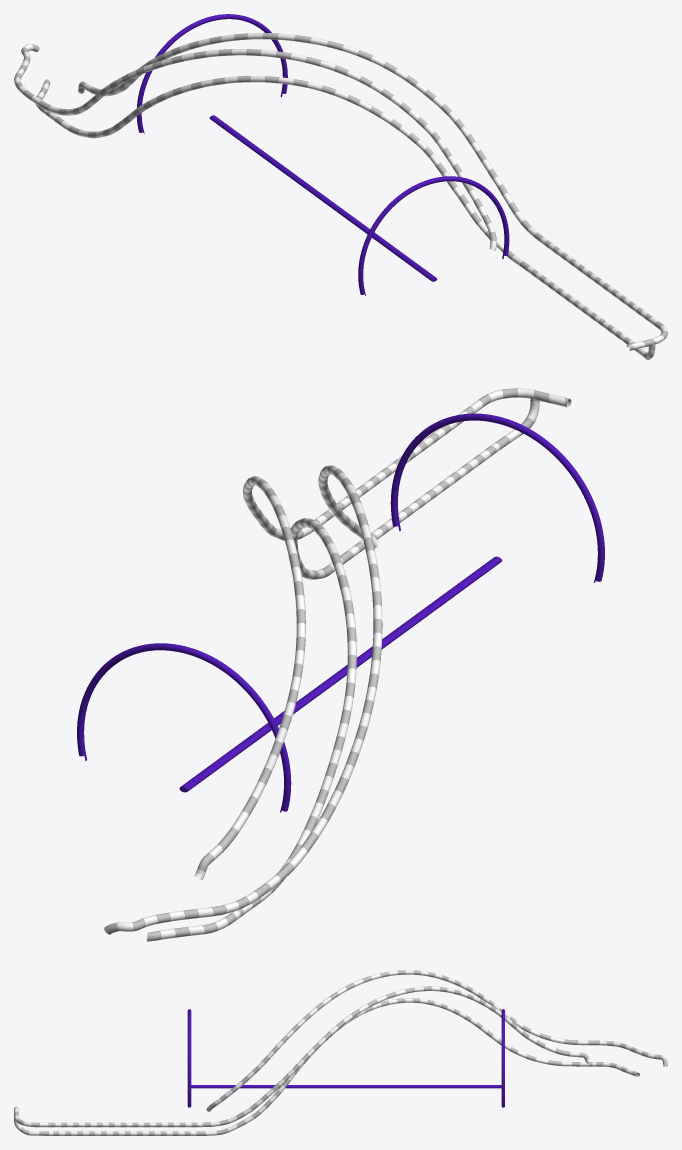
File: Rail_Right_UpperCurve_Save.fbx
3 views of the same model, one above another, from view 1: azimuth 30°, elevation 25°; view 2: azimuth 150°, elevation 25°; view 3: azimuth 270°, elevation 25° (orthographic). The views are drawn at different scales.
Parts seen in each view (by area): view 1: Rail_Right_UpperCurve_Save; view 2: Rail_Right_UpperCurve_Save; view 3: Rail_Right_UpperCurve_Save.
Boxes of the visible parts, bbox=[...] form: Rail_Right_UpperCurve_Save: bbox=[14, 14, 667, 359]; Rail_Right_UpperCurve_Save: bbox=[77, 388, 604, 941]; Rail_Right_UpperCurve_Save: bbox=[14, 970, 667, 1135].
Bounding box in the file's own units: 341 × 1124 × 218.
2 materials, 1 textured.
